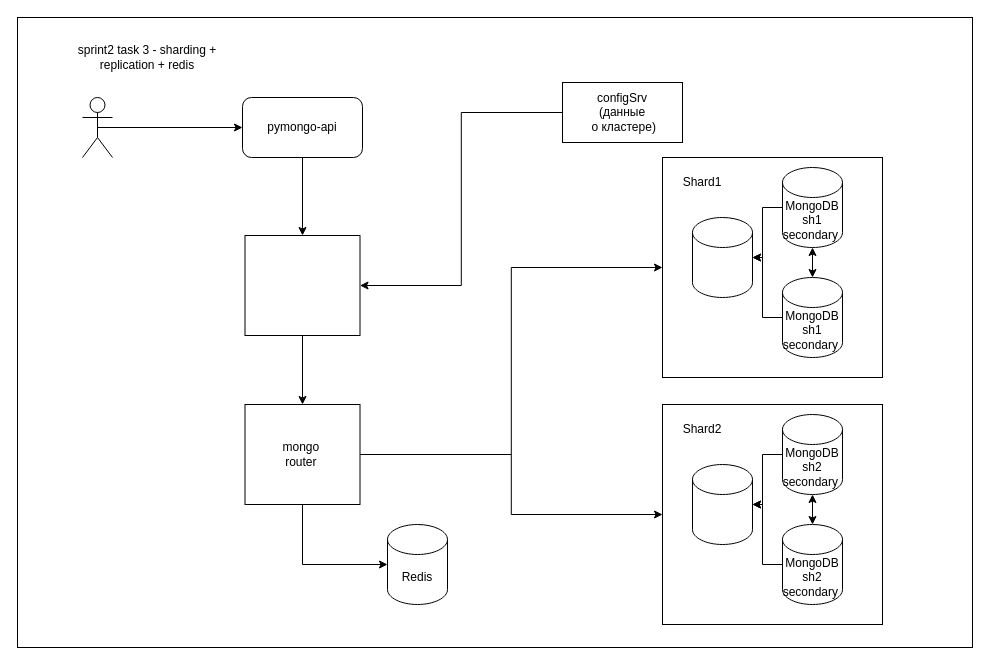
This 990x665 diagram has some shape labels left out. Each missing label, with the centre of its shape:
mongo driver: the point at 302,285
MongoDB sh1 primary: the point at 722,257
MongoDB sh2 primary: the point at 722,504
User: the point at 97,127
